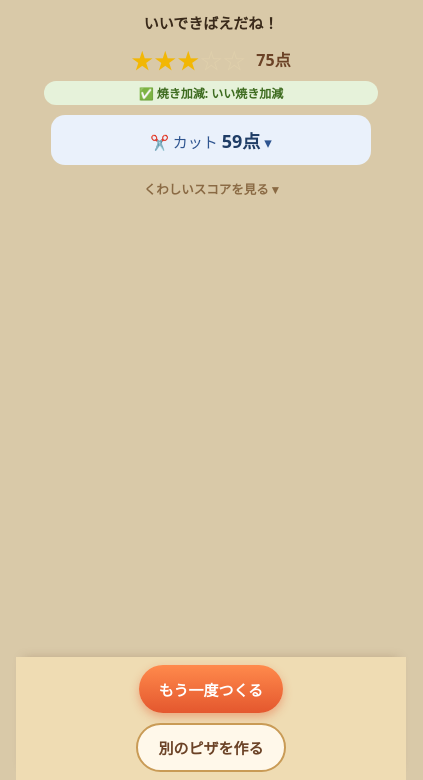
it: ResultPanel › passes CUT score/metric values through unchanged -- the disclosure only changes display, not calculation
Click the heading with class "cut-evaluation-summary__summary".
click(205, 141)  # box x1=150 y1=129 x2=260 y2=153
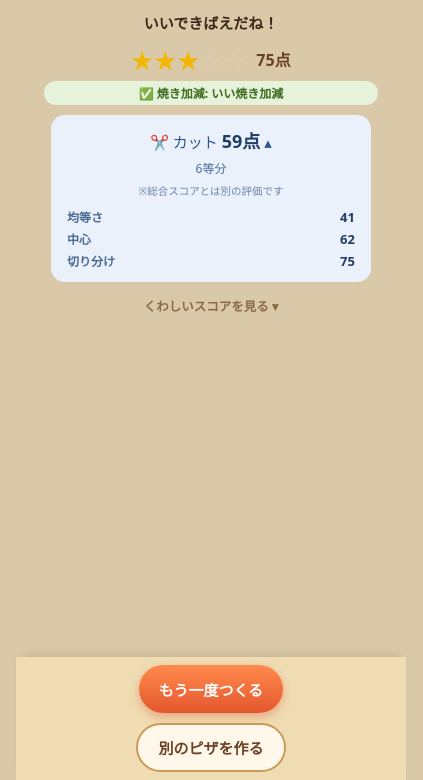
expect the text "41" is shown: met, box x1=340 y1=208 x2=355 y2=226
expect the text "62" is shown: met, box x1=340 y1=230 x2=355 y2=248
expect the text "75" is shown: met, box x1=340 y1=252 x2=355 y2=270
